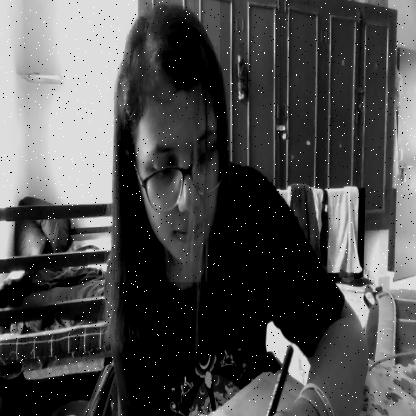Normal: (115, 0, 220, 282)
